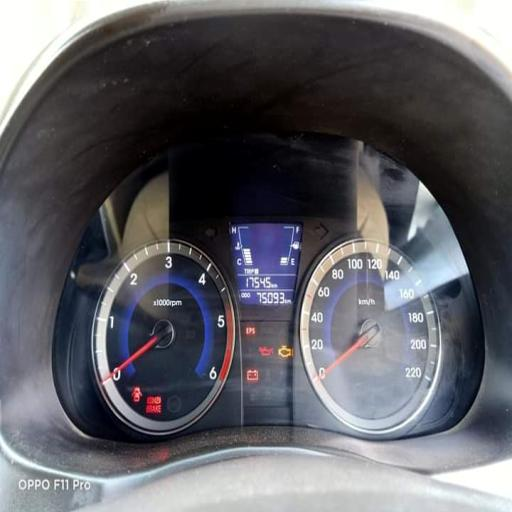check_engine: (278, 344, 291, 358)
oil: (257, 346, 274, 358)
tachometer: (90, 238, 236, 436)
vehicle_charging: (247, 368, 258, 381)
